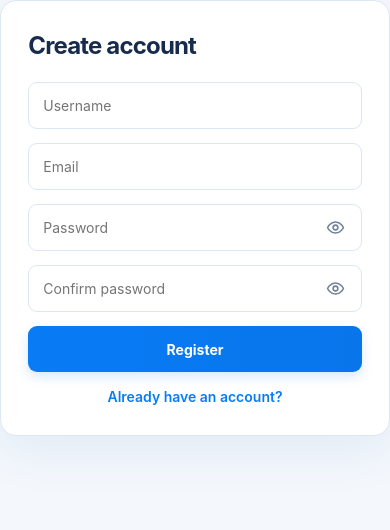
Test: Register › checks usernames and lets the user choose an available suggestion
This screenshot has width=390, height=530.
Type "taken" into the field with placeholder "Username".
click(195, 106); type("taken")  # box [28,82,362,129]
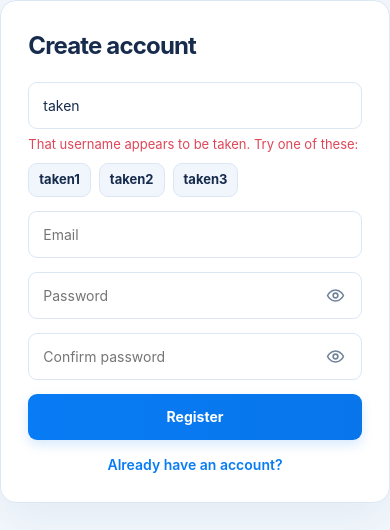
Now the text "That username appears to be taken. Try one of these:" is shown, box [28,136,358,152]
Click the button "taken2".
click(132, 180)  # box [99,163,165,197]
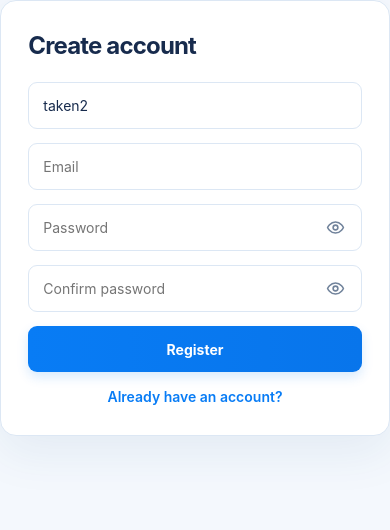
Now the field with placeholder "Username" holds "taken2", box [28,82,362,129]
